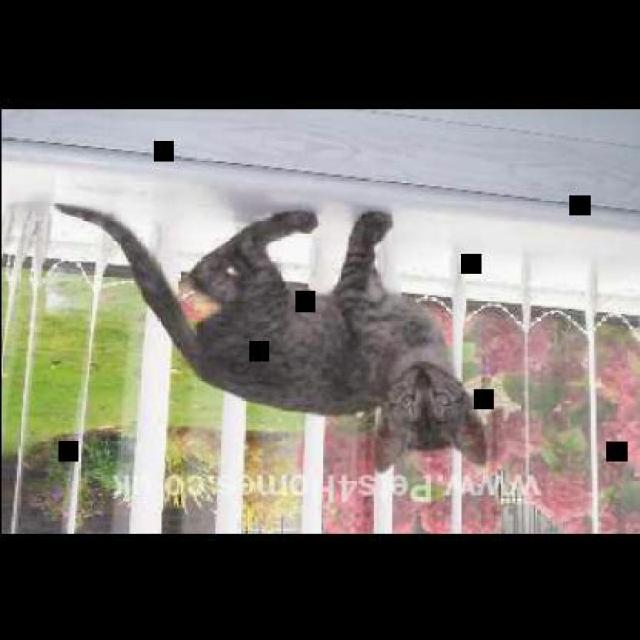unauthorized: (52, 200, 488, 472)
